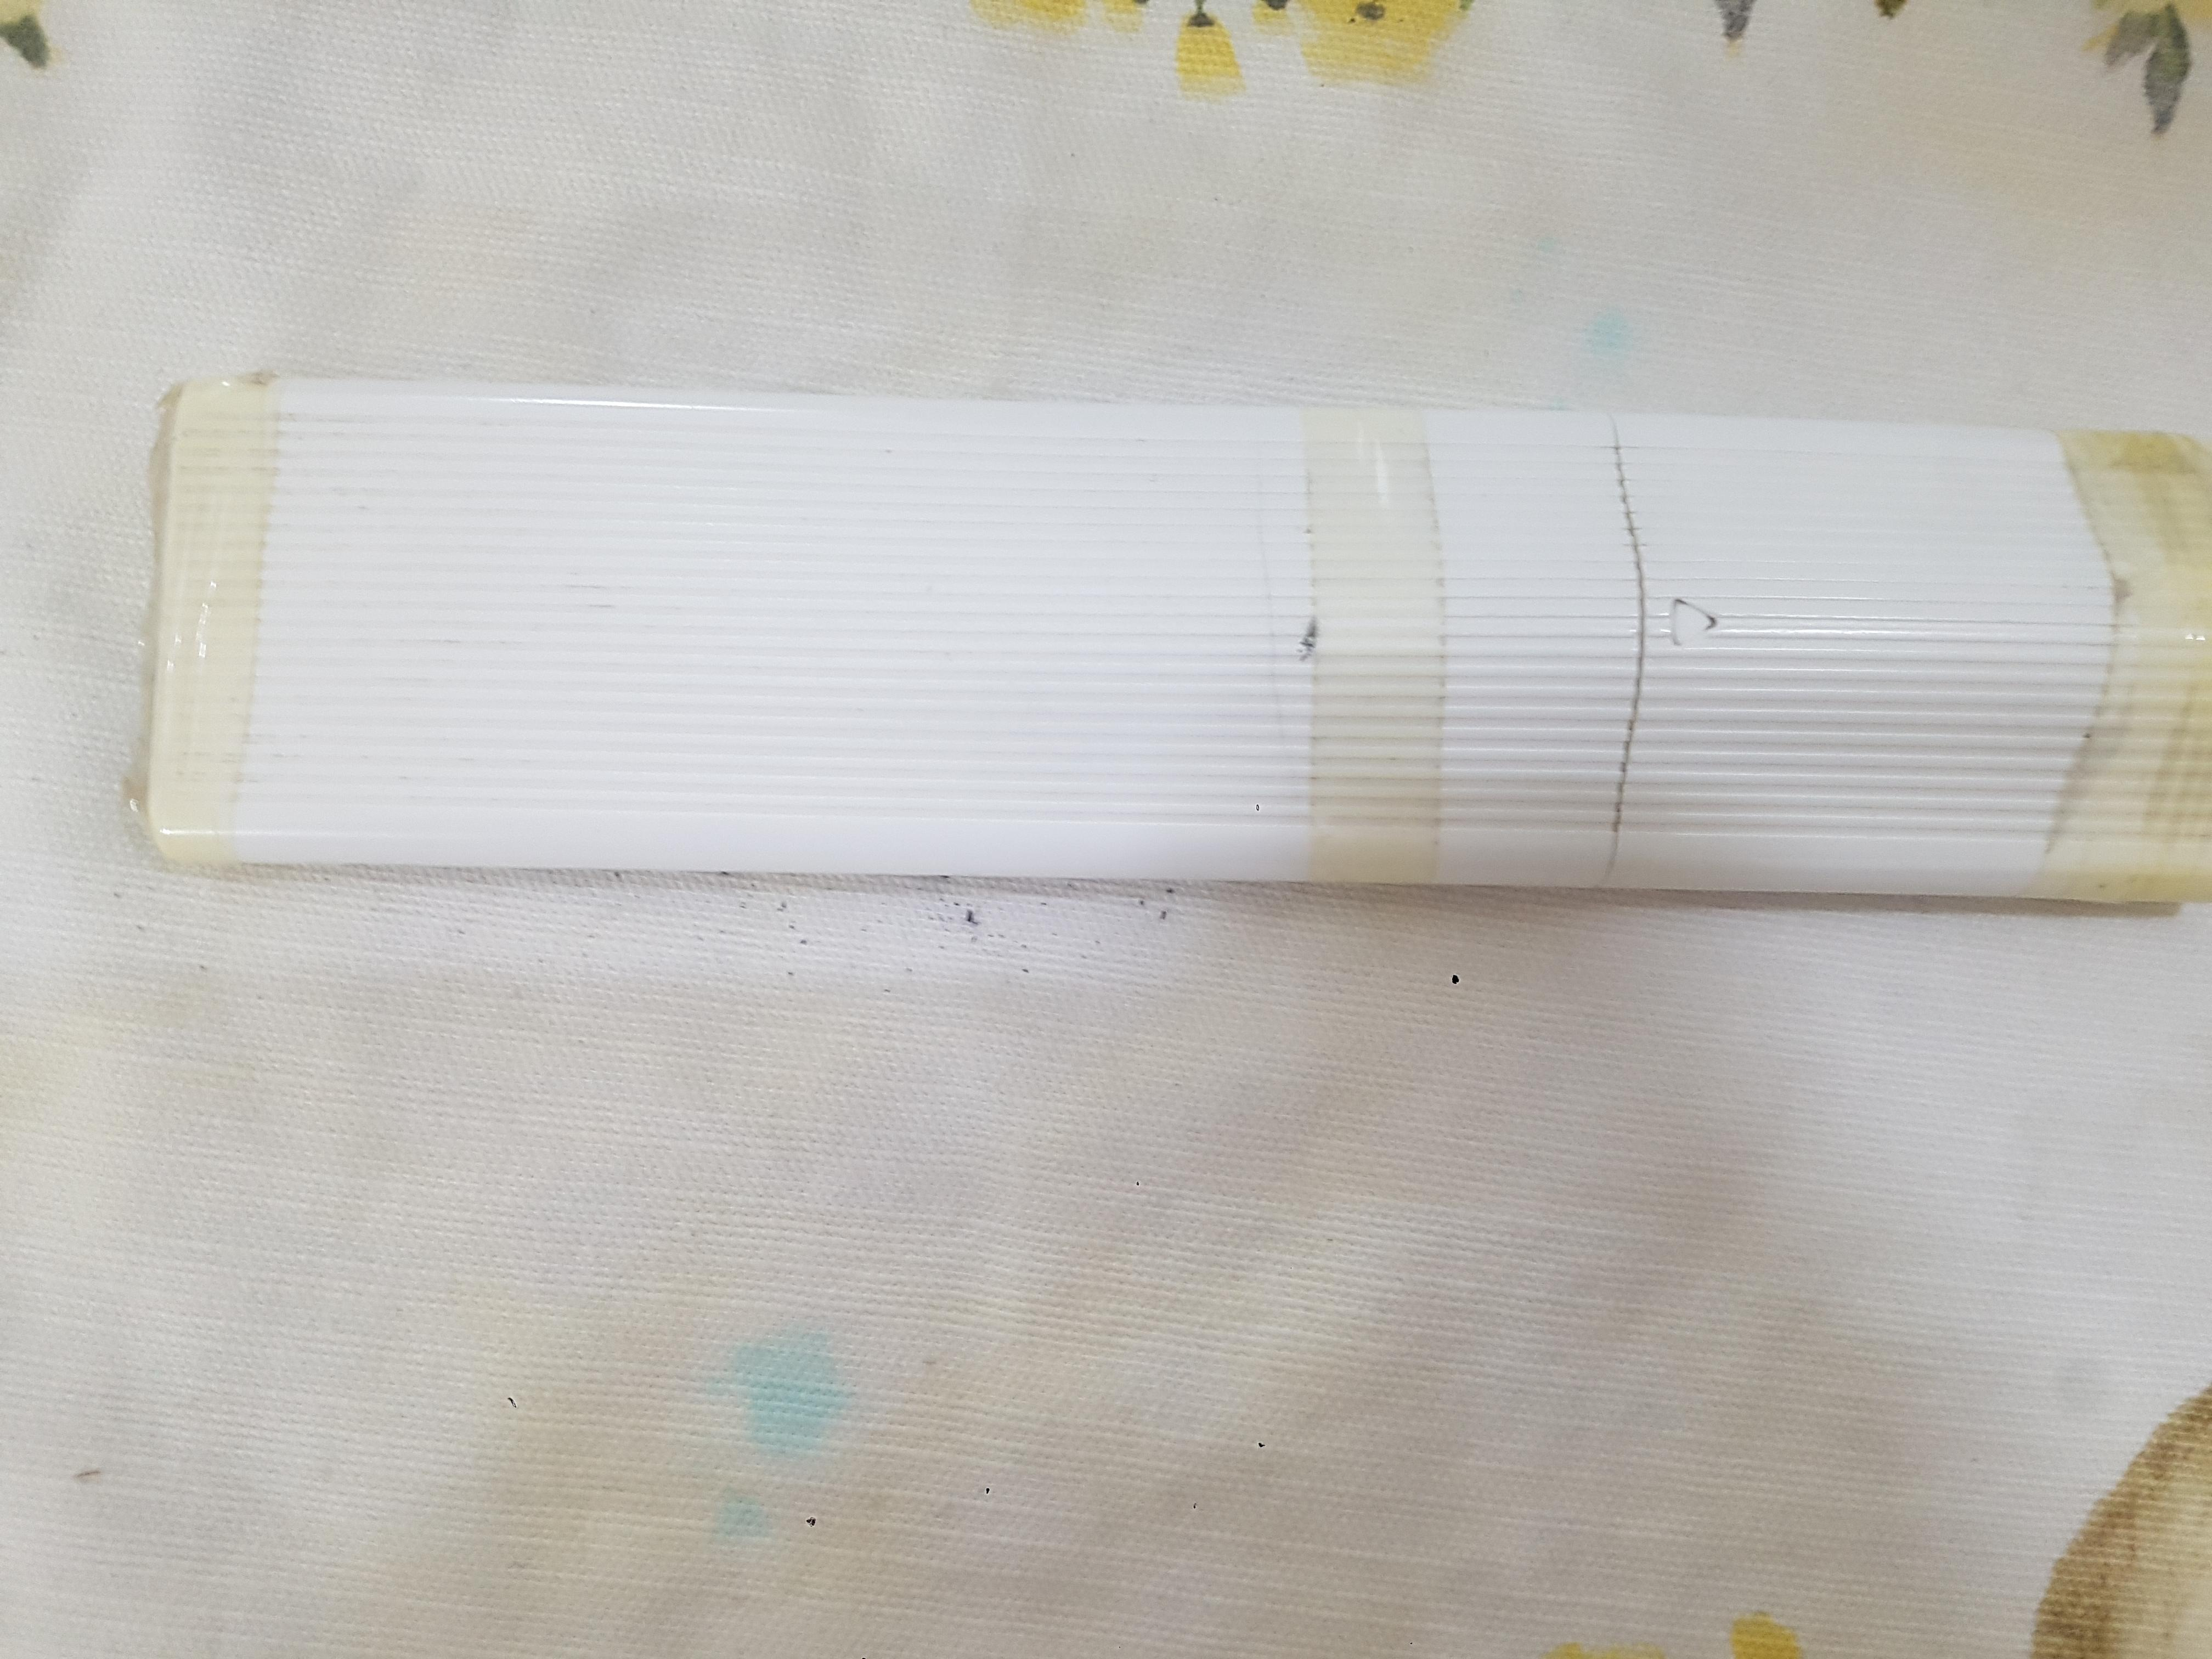electronic: (918, 96, 1770, 1659)
